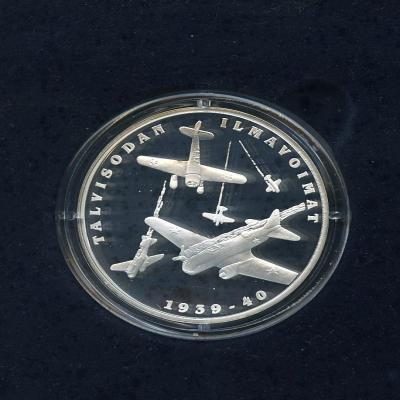numismatics: (53, 90, 352, 344)
